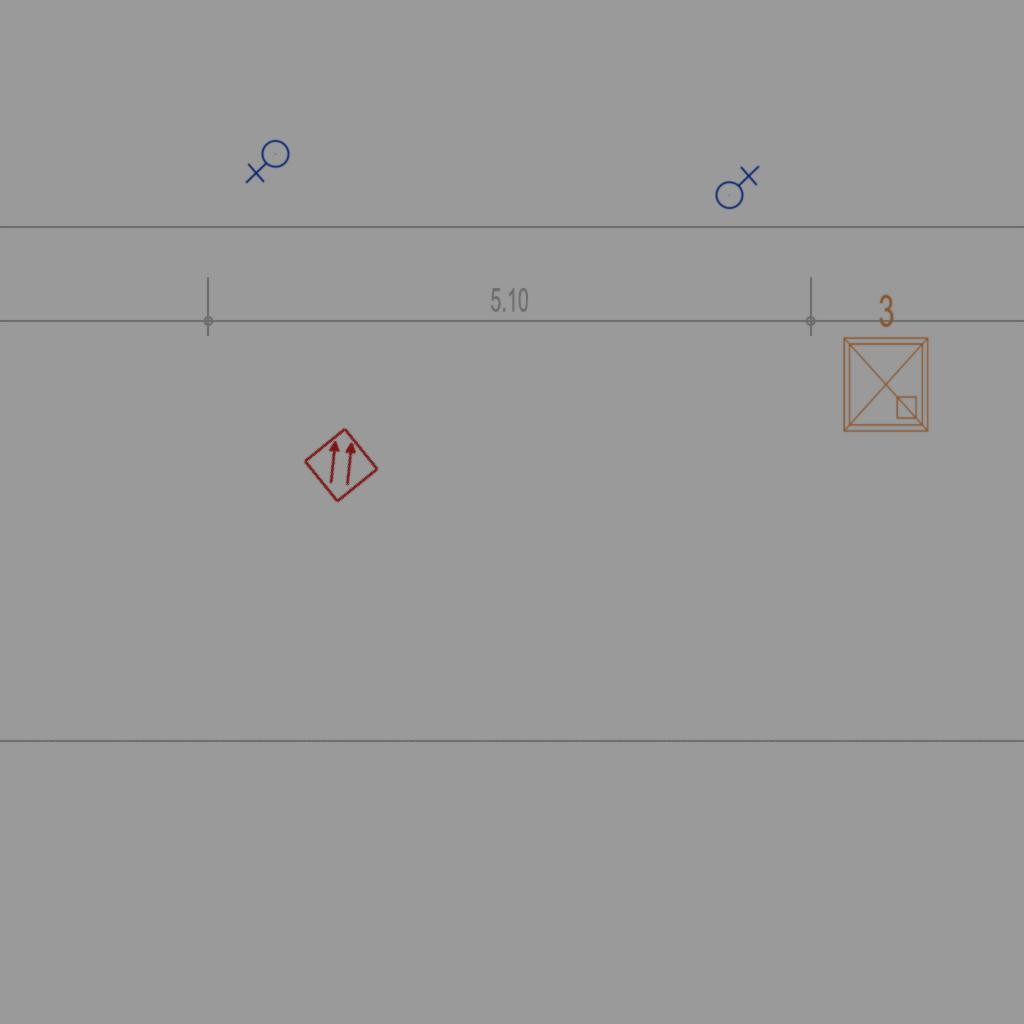Einbaudownlights_LED_Konferenzraeume: (832, 289, 936, 439)
Elektroanschluss_allgemein_230V_Geraeteanschlussdose_230V: (711, 163, 760, 210), (245, 139, 294, 186)
RMO_Rauchmelder_optischer: (301, 425, 381, 505)
